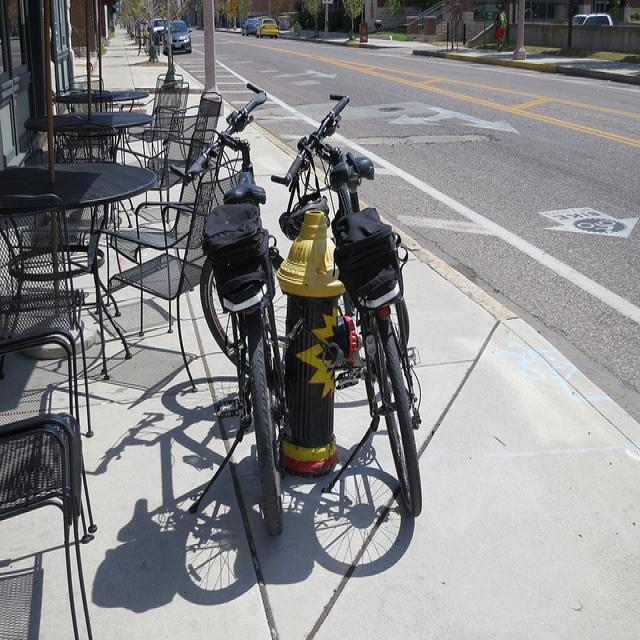fire_hydrant: (279, 197, 361, 480)
